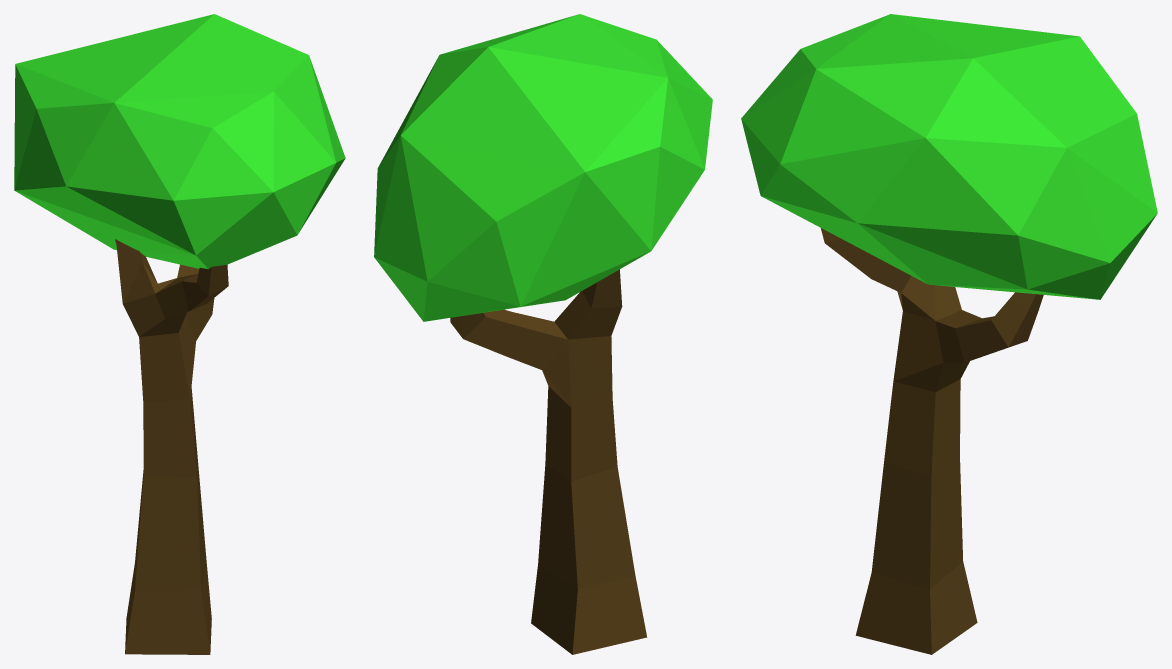
The model's file is Light Apple Tree.fbx.
3 views of the same model, side by side, from view 1: azimuth 30°, elevation 25°; view 2: azimuth 150°, elevation 25°; view 3: azimuth 270°, elevation 25° (orthographic). The views are drawn at different scales.
Parts seen in each view (by area): view 1: Apple Tree; view 2: Apple Tree; view 3: Apple Tree.
Boxes of the visible parts, box(x1,y1,x2,y2) form: Apple Tree: box(14, 14, 345, 654); Apple Tree: box(374, 14, 712, 654); Apple Tree: box(741, 14, 1157, 654).
Bounding box in the file's own units: 328 × 675 × 419.
